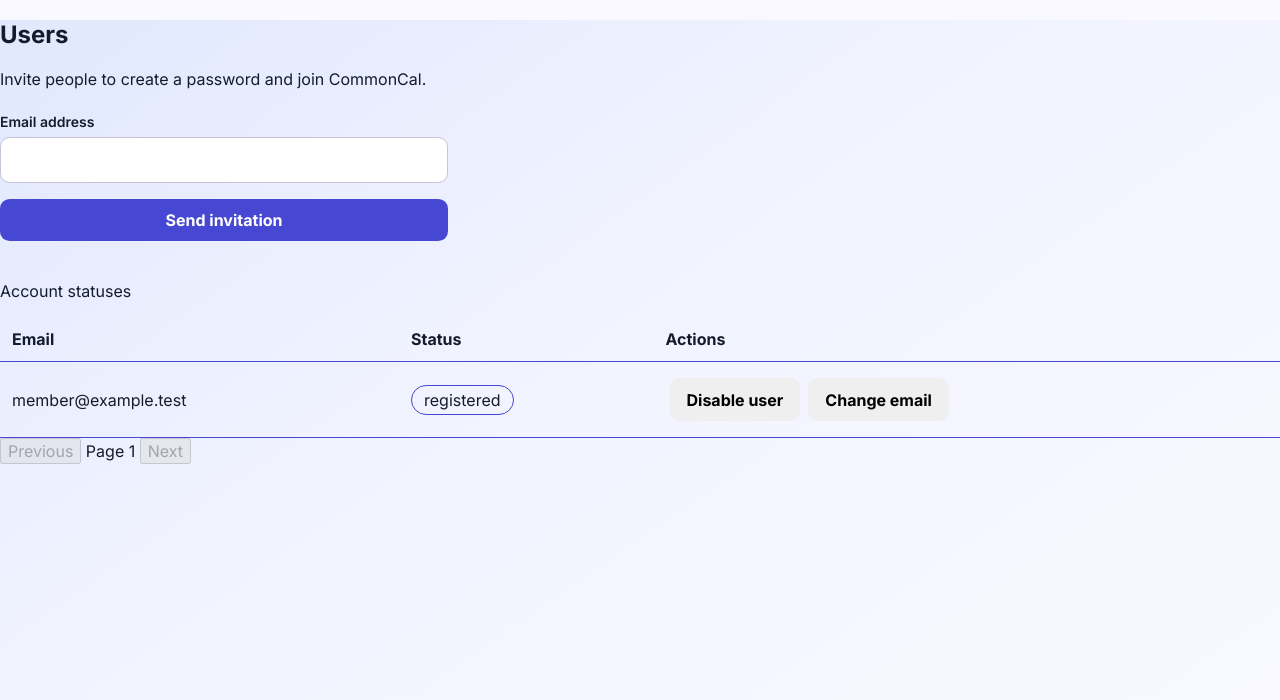
Test: keeps confirmation available after a disable failure
Click the button "Disable user": (735, 400) [670,378,800,421]
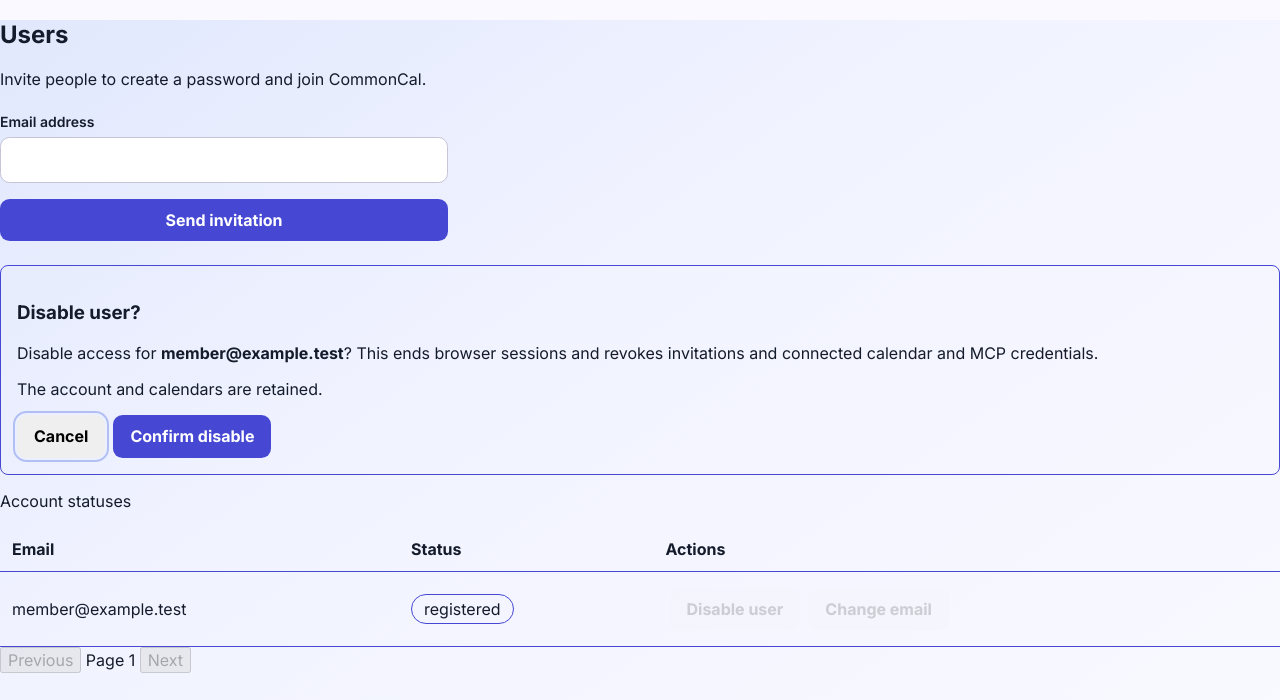
Click the button "Confirm disable": (192, 436) [113,415,272,458]
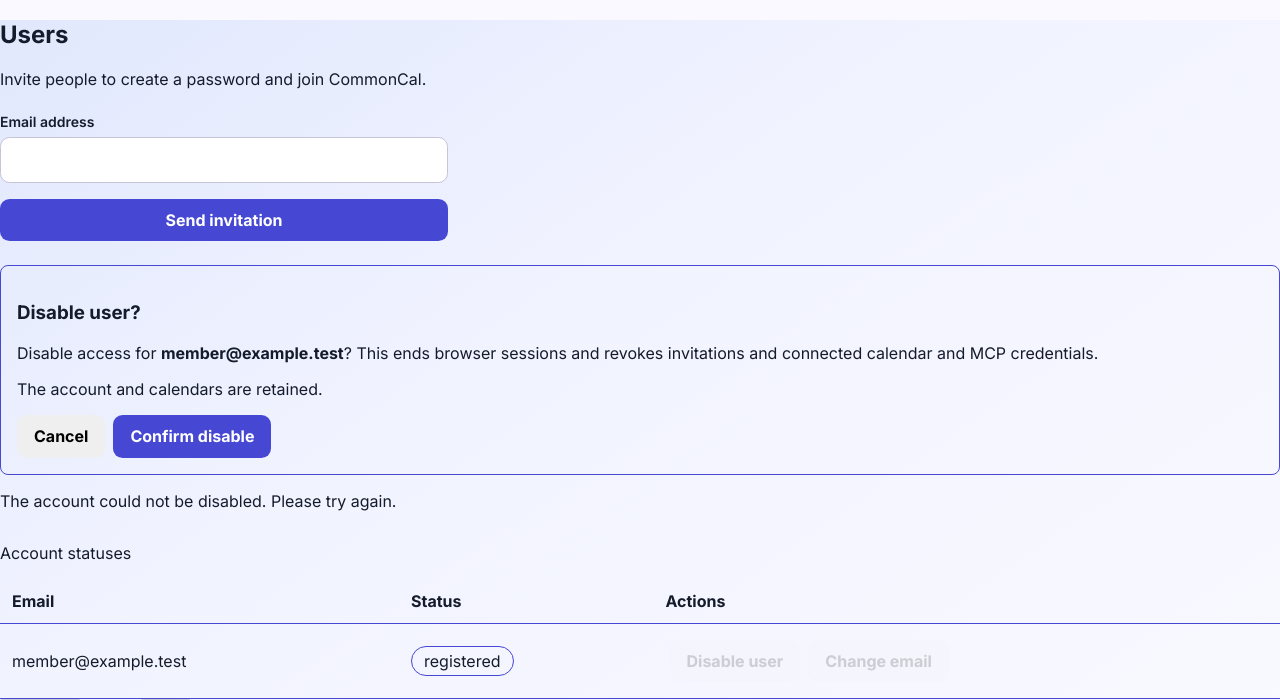
expect the button "Confirm disable" is enabled: met, box [113,415,272,458]
expect the message shows "The account could not be disabled.": met, box [0,491,396,511]
